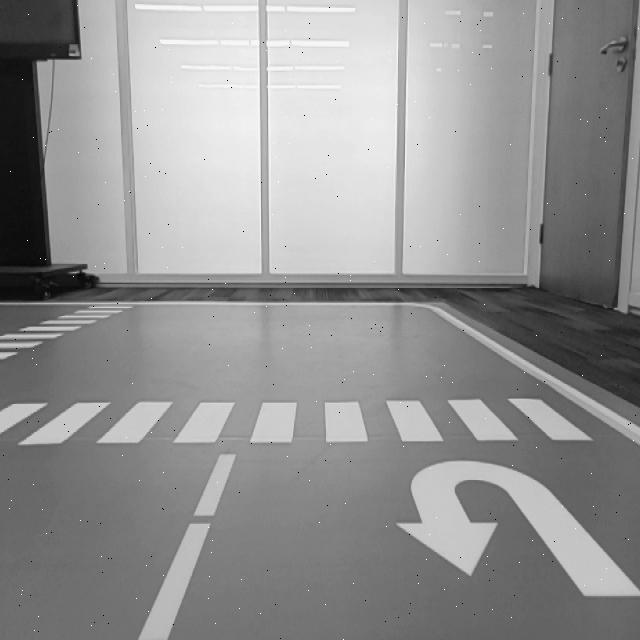left_lane: (139, 454, 233, 640)
right_lane: (429, 306, 640, 445)
